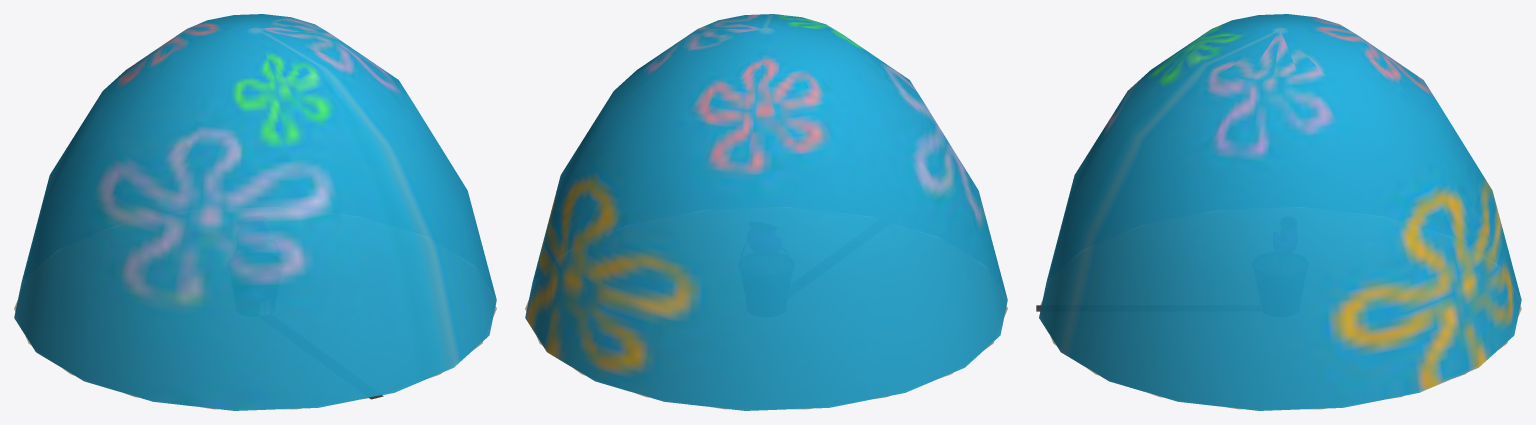
The model's file is chum-bucket-v2-opt1.glb.
The picture shows the model from 3 angles, left to right: view 1: azimuth 30°, elevation 25°; view 2: azimuth 150°, elevation 25°; view 3: azimuth 270°, elevation 25°; orthographic projection.
Visible parts, largest first — view 1: Skybox; view 2: Skybox; view 3: Skybox.
Boxes of the visible parts, bbox=[...] form: Skybox: bbox=[14, 14, 496, 410]; Skybox: bbox=[525, 14, 1007, 410]; Skybox: bbox=[1039, 14, 1521, 410].
Bounding box in the file's own units: 2243 × 1436 × 2257.
11 materials, 6 textured.
